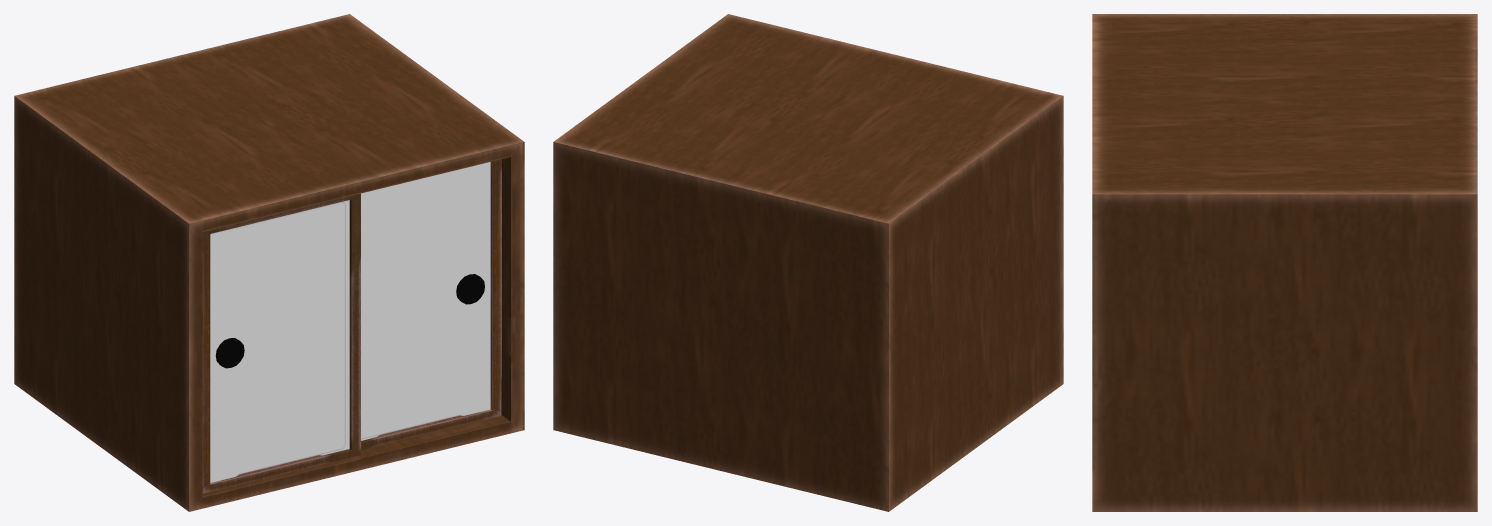
Rendered from Wooden_small_Closet_1Y.fbx.
3 renders of one model, left to right at view 1: azimuth 30°, elevation 25°; view 2: azimuth 150°, elevation 25°; view 3: azimuth 270°, elevation 25°, orthographic. The views are drawn at different scales.
Visible parts, largest first — view 1: Wooden small Closet 1Y, Closet Door 1Y, Closet Door 1Y.001; view 2: Wooden small Closet 1Y; view 3: Wooden small Closet 1Y.
Boxes of the visible parts, x1,y1,x2,y2 form: Wooden small Closet 1Y: (14,14,524,511); Closet Door 1Y: (202,193,360,493); Closet Door 1Y.001: (361,159,501,449); Wooden small Closet 1Y: (553,14,1063,511); Wooden small Closet 1Y: (1092,14,1477,511).
Bounding box in the file's own units: 120 × 98.76 × 109.
